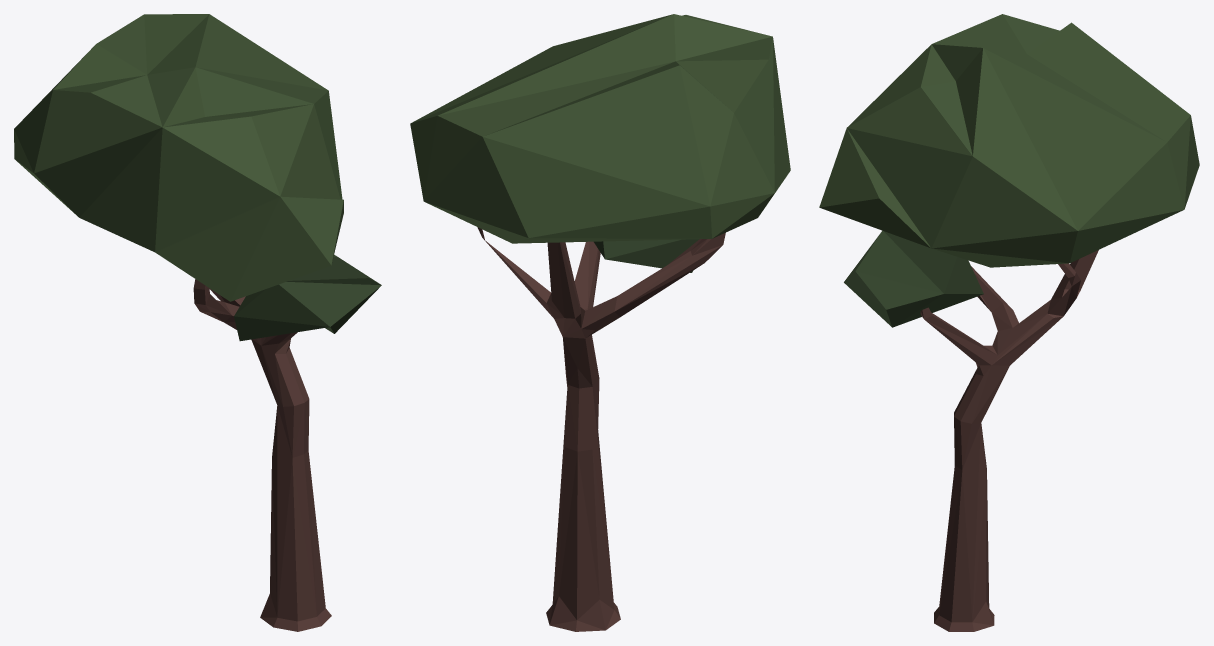
File: CommonTree_4_lod.glb
3 views of the same model, side by side, from view 1: azimuth 30°, elevation 25°; view 2: azimuth 150°, elevation 25°; view 3: azimuth 270°, elevation 25° (orthographic). The views are drawn at different scales.
Parts seen in each view (by area): view 1: CommonTree_4; view 2: CommonTree_4; view 3: CommonTree_4.
Boxes of the visible parts, x1=… form: CommonTree_4: x1=14, y1=14, x2=381, y2=631; CommonTree_4: x1=410, y1=14, x2=790, y2=631; CommonTree_4: x1=819, y1=14, x2=1199, y2=631.
Size of the model in its own units: 1.58 by 2.76 by 1.79.
